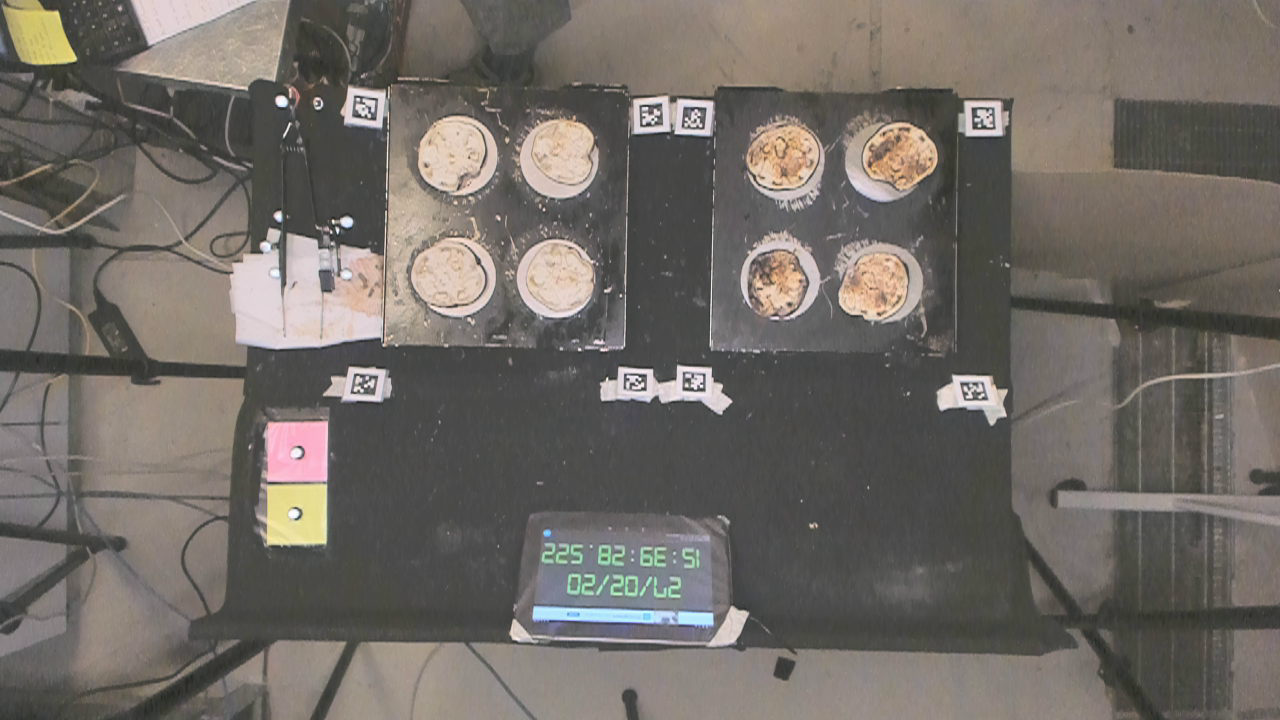eggplant: (416, 119, 487, 197), (838, 250, 911, 323), (526, 240, 598, 314), (412, 241, 488, 311), (863, 122, 937, 193), (746, 117, 818, 189), (530, 117, 597, 183), (744, 249, 808, 318)
marker: (268, 420, 329, 482)
